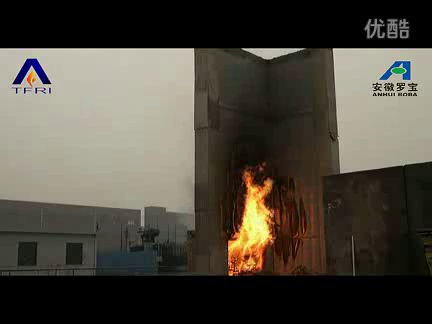fire: (222, 165, 280, 274)
